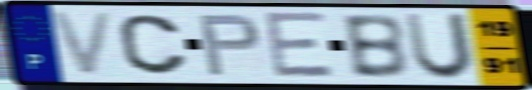B: (338, 12, 411, 81)
C: (116, 12, 192, 77)
E: (261, 9, 338, 81)
P: (196, 12, 263, 78)
U: (402, 11, 477, 83)
V: (47, 9, 117, 78)
